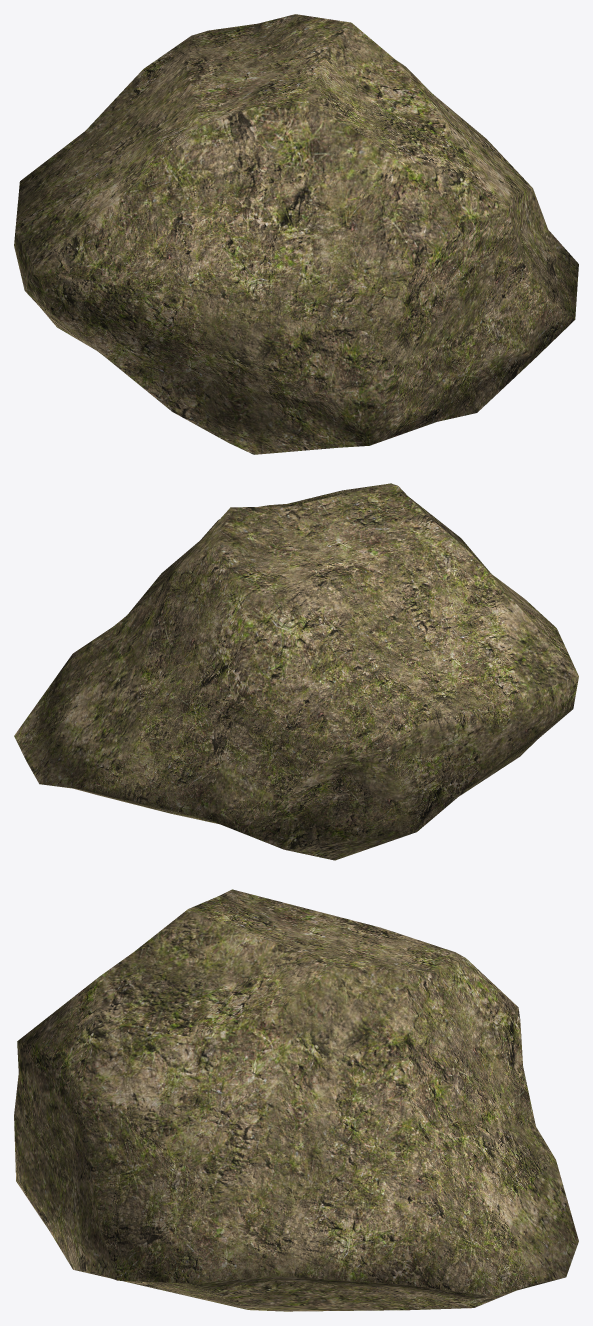
The model's file is Rock02.FBX.
The picture shows the model from 3 angles, top to bottom: view 1: azimuth 30°, elevation 25°; view 2: azimuth 150°, elevation 25°; view 3: azimuth 270°, elevation 25°; orthographic projection. The views are drawn at different scales.
Parts seen in each view (by area): view 1: Rock02; view 2: Rock02; view 3: Rock02.
Part boxes in pixels (x1,y1,x2,y2): Rock02: (14, 14, 578, 454); Rock02: (14, 483, 578, 860); Rock02: (14, 889, 578, 1311).
Bounding box in the file's own units: 1063 × 714 × 983.
